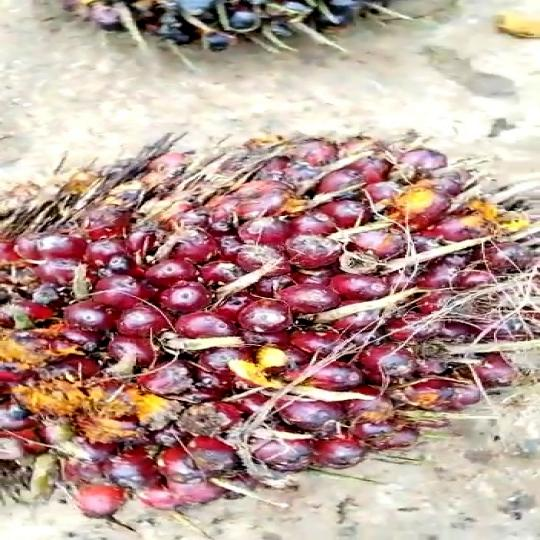masak: (0, 112, 540, 520)
